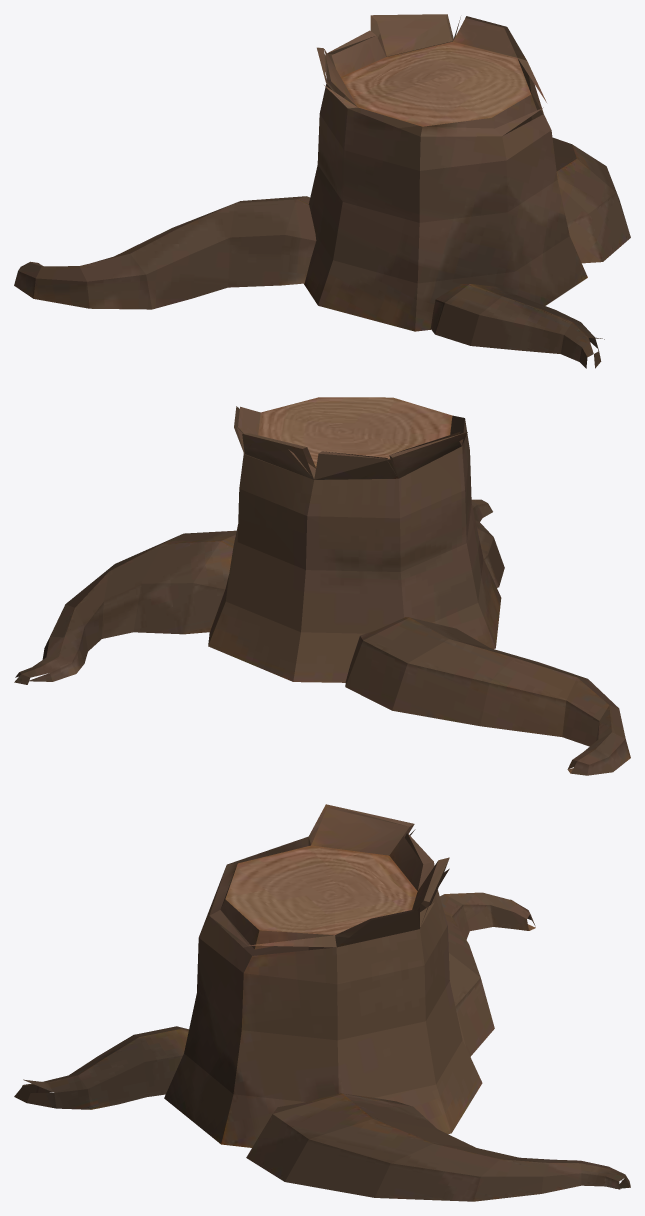
The model's file is tronk_new_compressed.glb.
3 renders of one model, top to bottom at view 1: azimuth 30°, elevation 25°; view 2: azimuth 150°, elevation 25°; view 3: azimuth 270°, elevation 25°, orthographic. The views are drawn at different scales.
Parts seen in each view (by area): view 1: +tronk; view 2: +tronk; view 3: +tronk.
Boxes of the visible parts, x1=… form: +tronk: x1=14, y1=14, x2=630, y2=368; +tronk: x1=14, y1=397, x2=630, y2=775; +tronk: x1=14, y1=804, x2=630, y2=1201.
Bounding box in the file's own units: 1.86 × 0.6937 × 1.67.
1 material, 1 textured.
